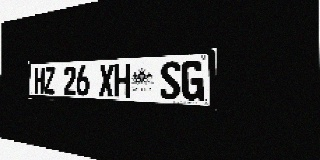2: (64, 66, 76, 95)
6: (76, 65, 89, 96)
G: (181, 60, 204, 101)
H: (114, 63, 131, 98), (34, 67, 44, 94)
S: (160, 61, 181, 100)
X: (99, 64, 114, 97)
Z: (44, 67, 55, 94)
